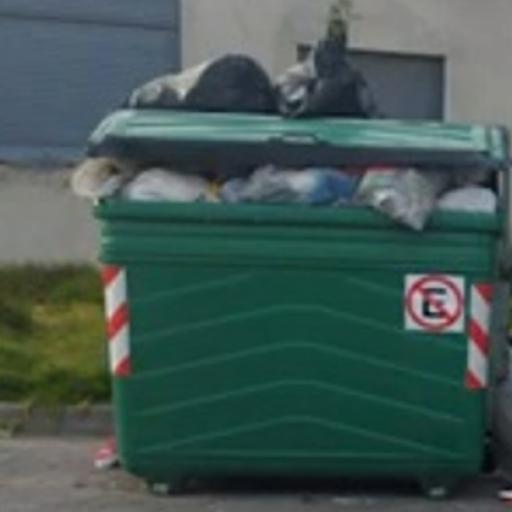Contenedor_Desbordado: (73, 16, 511, 498)
